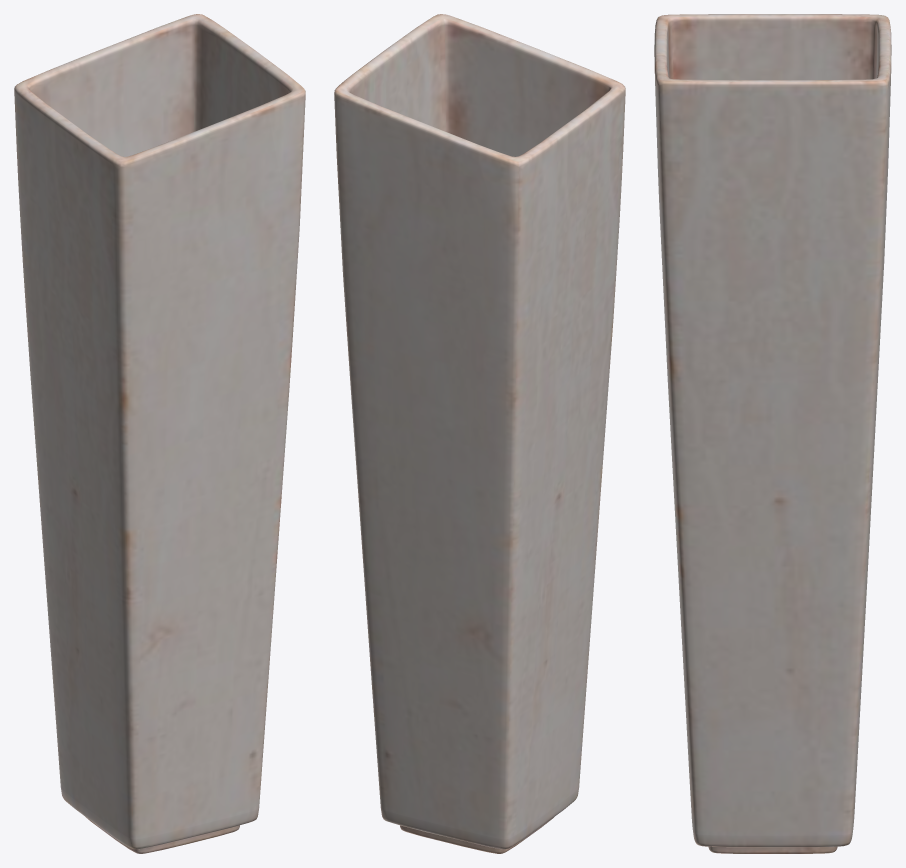
The model's file is ceramic_vase_03.glb.
3 views of the same model, side by side, from view 1: azimuth 30°, elevation 25°; view 2: azimuth 150°, elevation 25°; view 3: azimuth 270°, elevation 25° (orthographic). The views are drawn at different scales.
Visible parts, largest first — view 1: ceramic_vase_03; view 2: ceramic_vase_03; view 3: ceramic_vase_03.
Part boxes in pixels (x1,y1,x2,y2): ceramic_vase_03: [14, 14, 305, 853]; ceramic_vase_03: [334, 14, 625, 853]; ceramic_vase_03: [654, 14, 891, 853].
Size of the model in its own units: 0.1122 by 0.4144 by 0.1122.
1 material, 1 textured.
